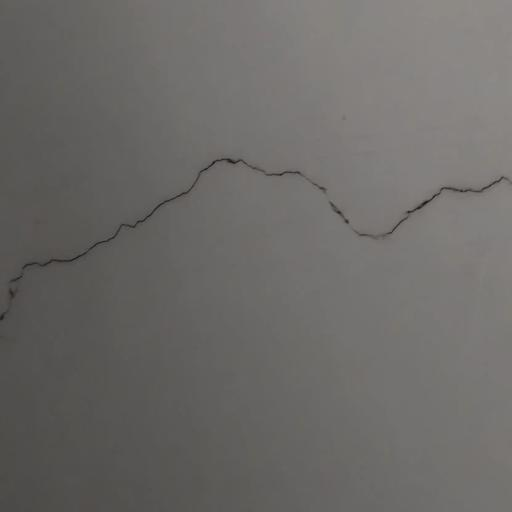minor_crack: (1, 151, 512, 329)
